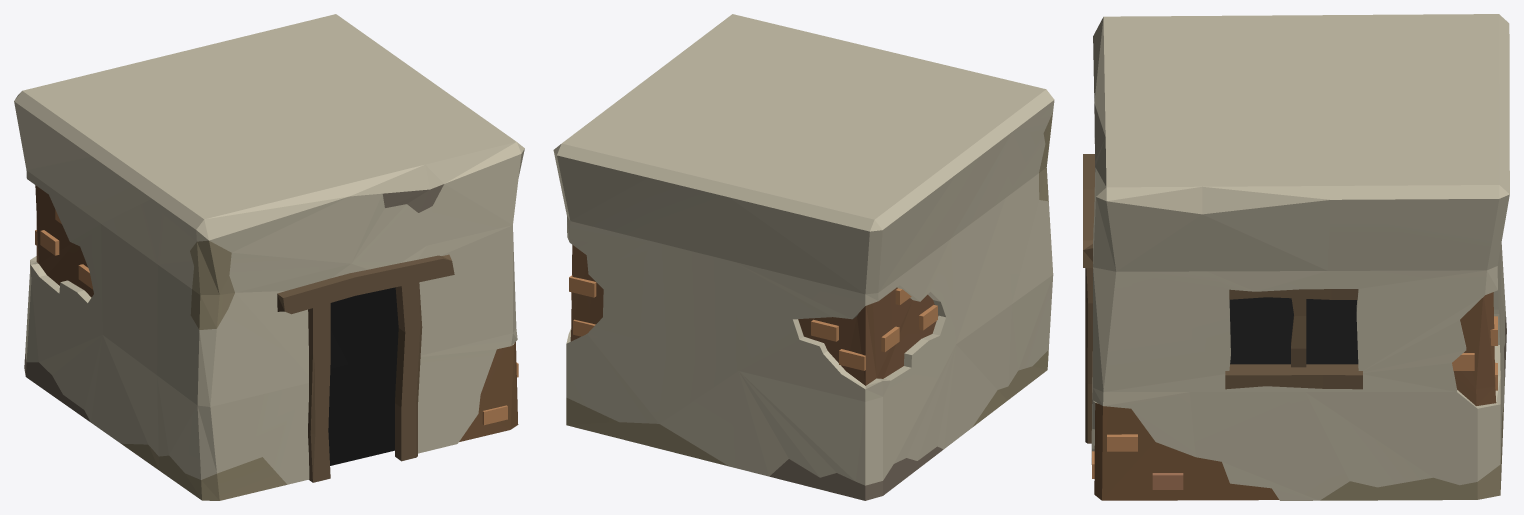
Rendered from adventure_SM_Bld_Village_01.gltf.
3 renders of one model, left to right at view 1: azimuth 30°, elevation 25°; view 2: azimuth 150°, elevation 25°; view 3: azimuth 270°, elevation 25°, orthographic. The views are drawn at different scales.
Parts seen in each view (by area): view 1: SM_Bld_Village_01; view 2: SM_Bld_Village_01; view 3: SM_Bld_Village_01.
Part boxes in pixels (x1,y1,x2,y2): SM_Bld_Village_01: (14,14,524,500); SM_Bld_Village_01: (553,14,1054,500); SM_Bld_Village_01: (1083,14,1509,500).
Bounding box in the file's own units: 4.09 × 3.29 × 4.05.
1 material, 1 textured.
